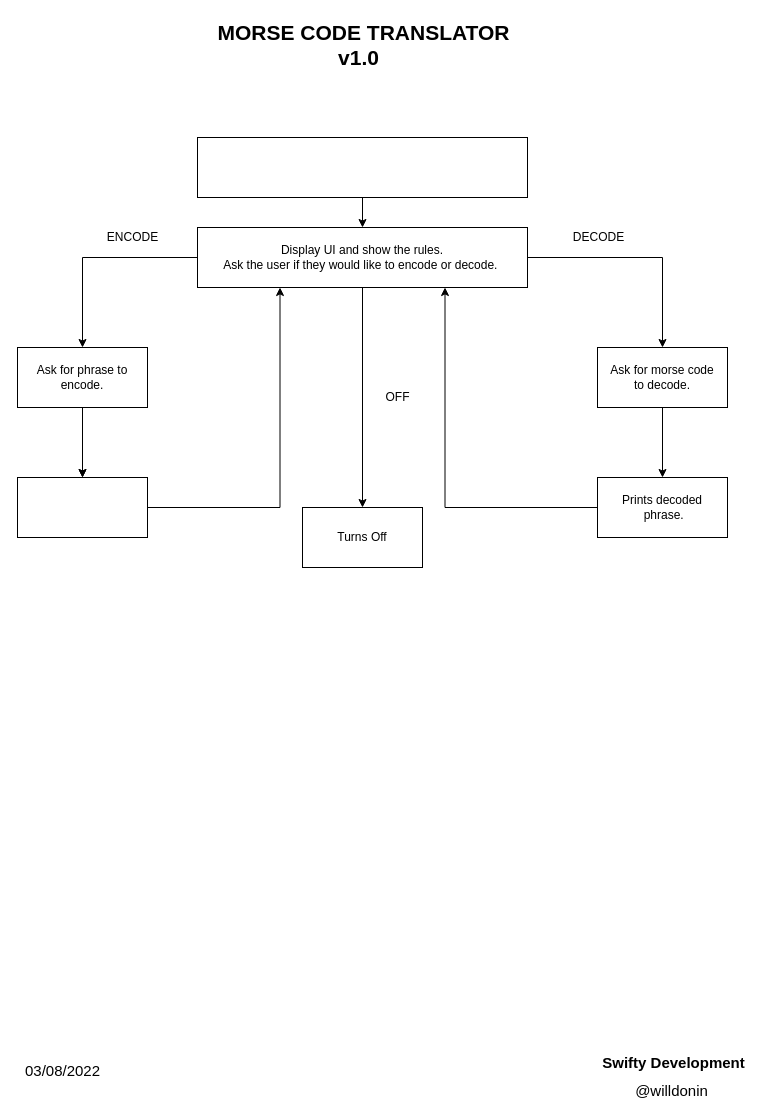
Image size: 771x1117. Some labels were removed from this diagram. The shapes that lost their labels are listed below. From the top down, each one's box as (x1, y1, x2, y2) in pixels, then its label:
(196, 136, 528, 198): Display UI and show the rules.
(16, 476, 148, 538): Prints morse code phrase.
